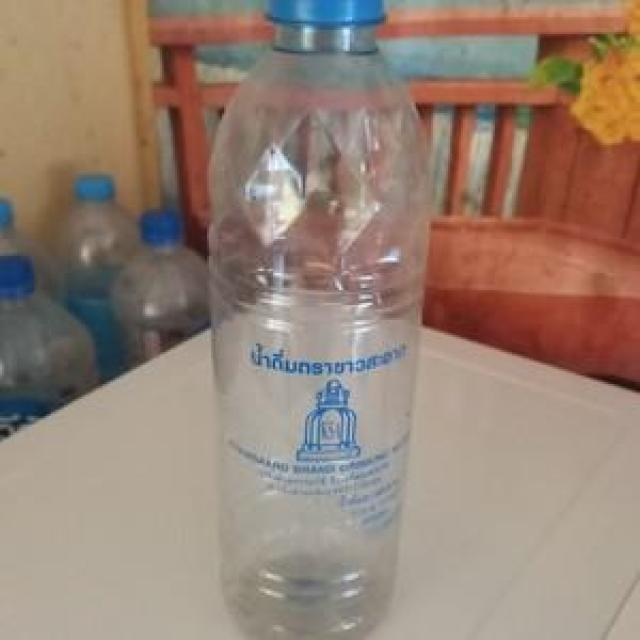bottle: (197, 0, 445, 640), (103, 207, 240, 352), (0, 230, 107, 392), (54, 164, 136, 299)
